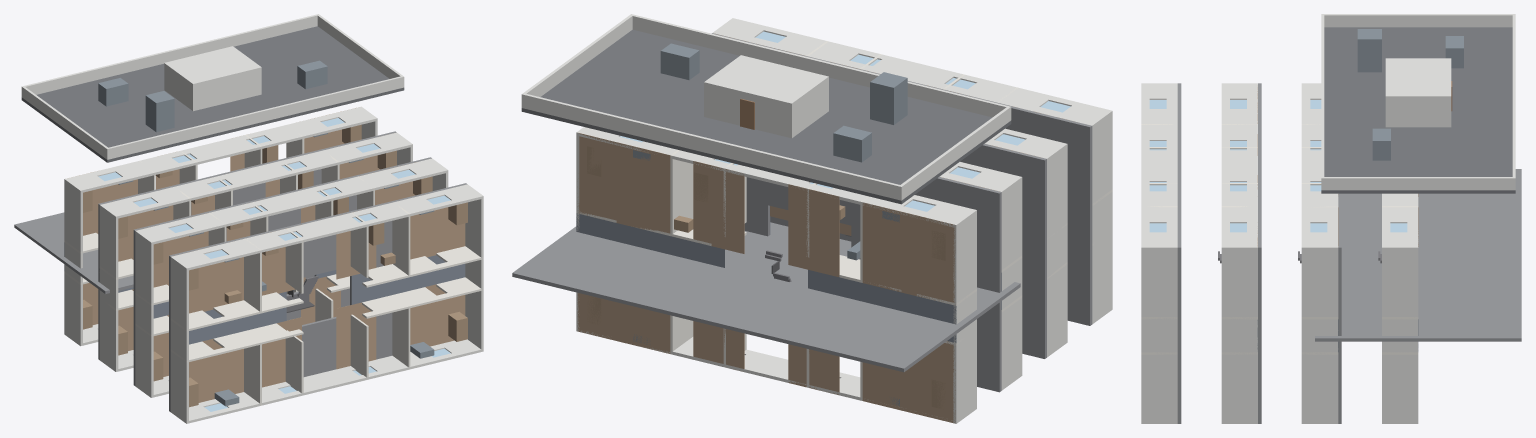
The model's file is HostelBuilding.fbx.
3 views of the same model, side by side, from view 1: azimuth 30°, elevation 25°; view 2: azimuth 150°, elevation 25°; view 3: azimuth 270°, elevation 25° (orthographic). The views are drawn at different scales.
Visible parts, largest first — view 1: Roof_Slab, Floor_4, Floor_3, Floor_1, Floor_2, Roof_Access_Shed, Roof_Parapet_S, Roof_Parapet_N, Floor_2_Wall_Ext_W, Floor_3_Wall_Ext_W, Floor_4_Wall_Ext_W, Floor_1_Wall_Ext_W (+54 smaller); view 2: Foundation_Slab, Roof_Slab, Floor_1, Floor_4, Floor_1_RoomFloor_N_-12.0, Roof_Access_Shed, Floor_1_RoomFloor_N_12.0, Floor_4_Slab_West, Floor_3_Slab_West, Floor_2_Slab_West, Roof_Parapet_N, Roof_Parapet_S (+23 smaller); view 3: Roof_Slab, Foundation_Slab, Floor_3_Wall_Ext_E, Floor_4_Wall_Ext_E, Floor_2_Wall_Ext_E, Floor_1_Wall_Ext_E, Floor_4, Floor_3, Roof_Access_Shed, Floor_2, Roof_Parapet_E, Roof_Parapet_W (+9 smaller).
Part boxes in pixels (x1,y1,x2,y2): Roof_Slab: [21, 26, 404, 162]; Floor_4: [170, 185, 483, 423]; Floor_3: [135, 158, 448, 397]; Floor_1: [64, 106, 377, 346]; Floor_2: [99, 133, 412, 371]; Roof_Access_Shed: [164, 46, 261, 111]; Roof_Parapet_S: [106, 76, 404, 159]; Roof_Parapet_N: [21, 14, 319, 97]; Floor_2_Wall_Ext_W: [99, 204, 118, 371]; Floor_3_Wall_Ext_W: [135, 230, 153, 397]; Floor_4_Wall_Ext_W: [170, 257, 188, 423]; Floor_1_Wall_Ext_W: [64, 180, 82, 345]; Foundation_Slab: [512, 222, 1020, 372]; Roof_Slab: [521, 29, 1011, 204]; Floor_1: [576, 127, 976, 423]; Floor_4: [714, 18, 1112, 323]; Floor_1_RoomFloor_N_-12.0: [862, 202, 955, 302]; Roof_Access_Shed: [704, 55, 828, 138]; Floor_1_RoomFloor_N_12.0: [577, 132, 670, 233]; Floor_4_Slab_West: [943, 89, 1092, 325]; Floor_3_Slab_West: [960, 143, 1046, 358]; Floor_2_Slab_West: [851, 177, 1001, 392]; Roof_Parapet_N: [521, 93, 903, 200]; Roof_Parapet_S: [630, 14, 1011, 120]; Roof_Slab: [1321, 27, 1515, 193]; Foundation_Slab: [1315, 169, 1521, 341]; Floor_3_Wall_Ext_E: [1221, 246, 1257, 423]; Floor_4_Wall_Ext_E: [1141, 246, 1177, 423]; Floor_2_Wall_Ext_E: [1301, 246, 1338, 423]; Floor_1_Wall_Ext_E: [1382, 246, 1418, 423]; Floor_4: [1141, 83, 1177, 423]; Floor_3: [1221, 83, 1257, 423]; Roof_Access_Shed: [1385, 58, 1451, 127]; Floor_2: [1301, 83, 1338, 423]; Roof_Parapet_E: [1324, 177, 1512, 190]; Roof_Parapet_W: [1324, 14, 1512, 27].
Size of the model in its own units: 33 by 24.2 by 31.3.
